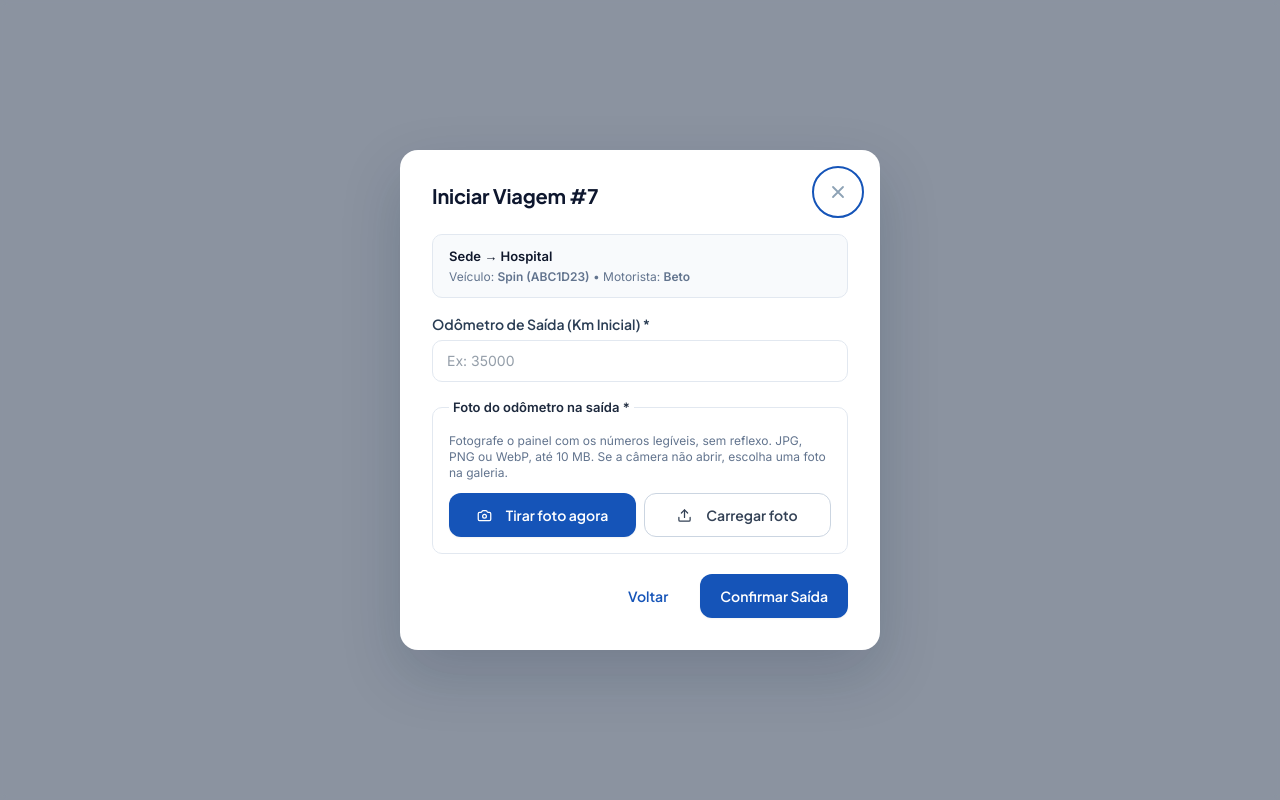
ModalIniciarViagem com foto do odômetro (SCRUM-205/214) › oferece câmera e galeria separadas e exige a foto
The image size is (1280, 800).
Expected: the button "Tirar foto agora" is shown, left=449, top=493, right=636, bottom=537
Expected: the button "Carregar foto" is shown, left=644, top=493, right=831, bottom=537
Type "35000" into the number field labelled "Odômetro de Saída (Km Inicial) *". click: (640,360)
box: left=432, top=340, right=848, bottom=382
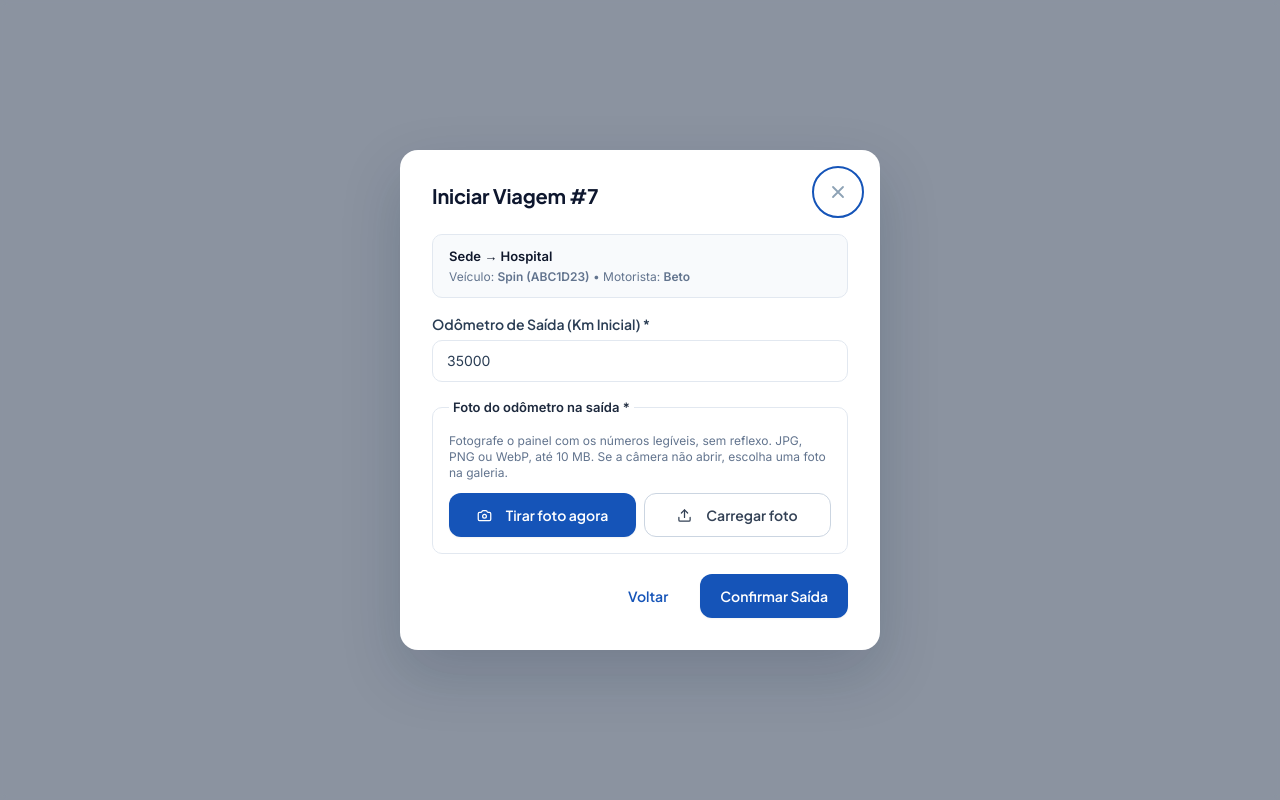
Click the button "Confirmar Saída". click: (774,596)
box: left=700, top=574, right=848, bottom=618
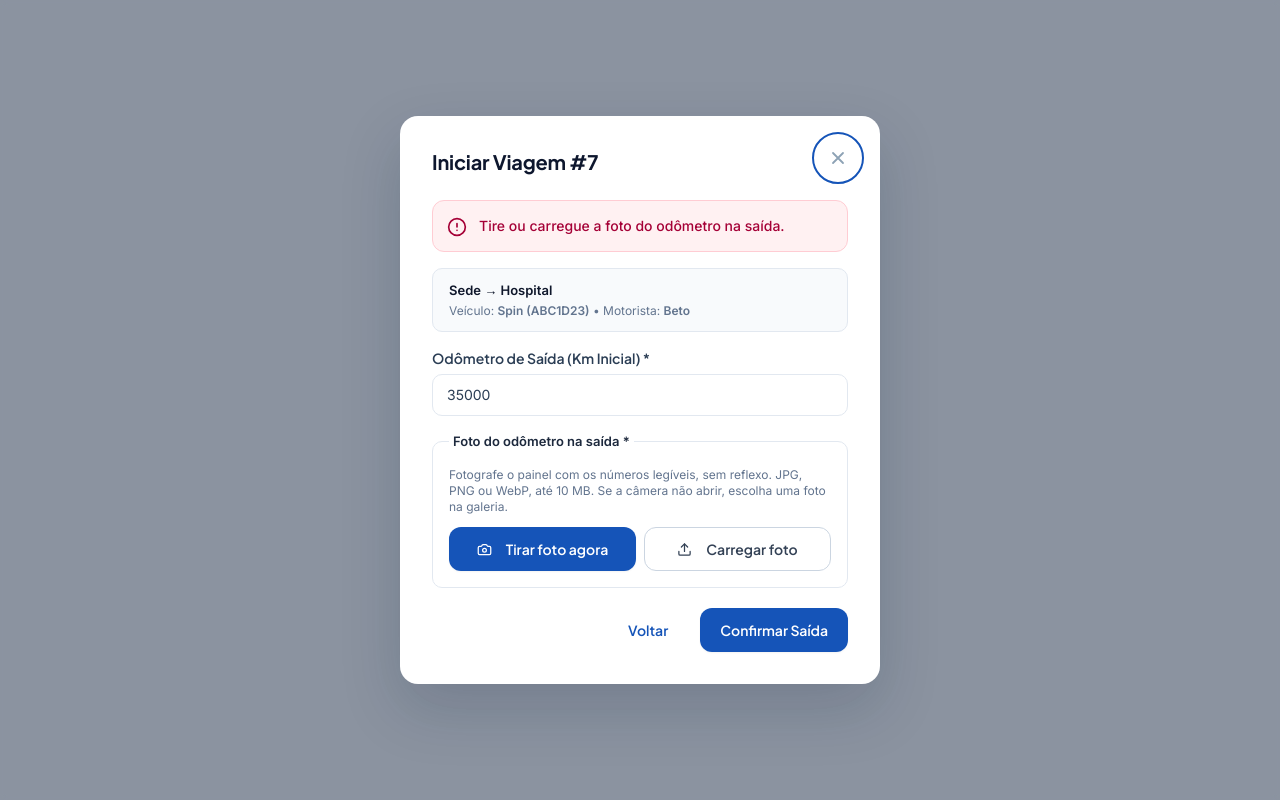
Expected: the text "Tire ou carregue a foto do odômetro na saída." is shown, left=479, top=215, right=833, bottom=237
